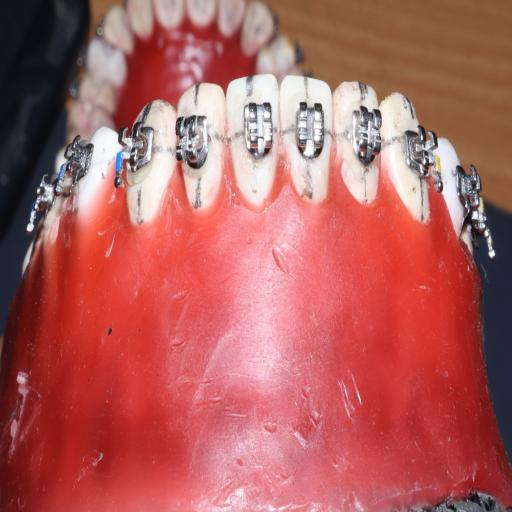incorrect_brace: (237, 97, 278, 166), (291, 99, 327, 164)
